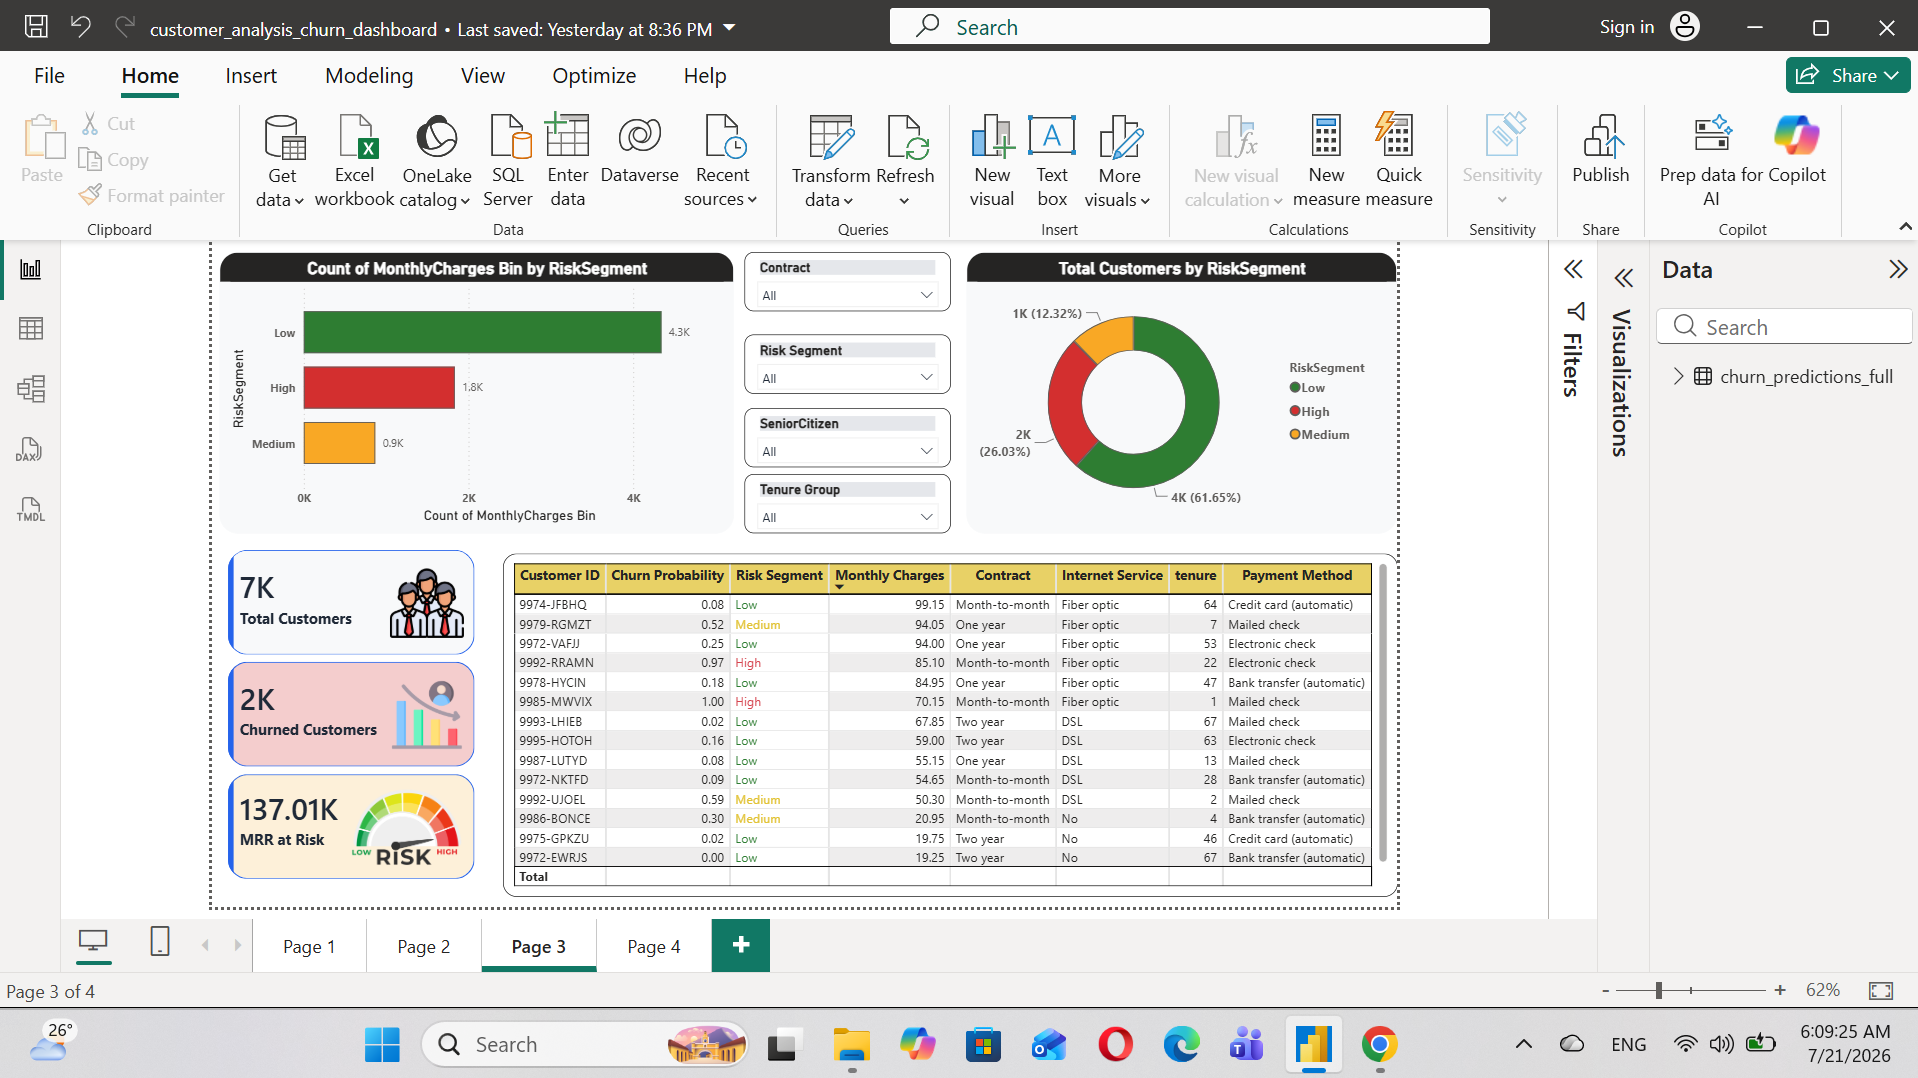

Layout of this report page (visuals, bound fields, positions):
{"tool":"powerbi","page":{"name":"Page 3","canvas":[1280,720],"ordinal":2},"visuals":[{"type":"tableEx","fields":{"Values":["churn_predictions_full.customerID","churn_predictions_full.churn_probability","churn_predictions_full.RiskSegment","churn_predictions_full.MonthlyCharges","churn_predictions_full.Contract","churn_predictions_full.InternetService","churn_predictions_full.tenure","churn_predictions_full.PaymentMethod"]},"box":[313.7,338.3,965.7,370.4],"z":0},{"type":"cardVisual","fields":{"Data":["churn_predictions_full.Total Customers","churn_predictions_full.Churned Customers","churn_predictions_full.MRR at Risk"]},"box":[0,317.5,300.5,391.2],"z":1000},{"type":"donutChart","fields":{"Category":["churn_predictions_full.RiskSegment"],"Y":["churn_predictions_full.Total Customers"]},"box":[814.5,13.2,464.9,304.3],"z":2000},{"type":"barChart","fields":{"Y":["CountNonNull(churn_predictions_full.MonthlyCharges Bin)"],"Category":["churn_predictions_full.RiskSegment"]},"box":[7.6,13.2,555.6,304.3],"z":3000},{"type":"slicer","fields":{"Values":["churn_predictions_full.Contract"]},"box":[574.5,13.2,223,64.3],"z":4000},{"type":"slicer","fields":{"Values":["churn_predictions_full.RiskSegment"]},"box":[574.5,102,223,64.3],"z":5000},{"type":"slicer","fields":{"Values":["churn_predictions_full.SeniorCitizen"]},"box":[574.5,181.4,223,64.3],"z":6000},{"type":"slicer","fields":{"Values":["churn_predictions_full.Tenure Group"]},"box":[574.5,253.2,223,64.3],"z":7000}]}

Visuals, with their boxes on the page's 1280x720 design canvas (x1, y1, x2, y2). These are canvas units, not pixel positions in the 1918x1078 screenshot, which may show the page scaled, cropped or inside an application window:
tableEx - churn_predictions_full.customerID x churn_predictions_full.churn_probability: bbox(314, 338, 1279, 709)
cardVisual - churn_predictions_full.Total Customers x churn_predictions_full.Churned Customers: bbox(0, 318, 300, 709)
donutChart - churn_predictions_full.RiskSegment x churn_predictions_full.Total Customers: bbox(814, 13, 1279, 318)
barChart - CountNonNull(churn_predictions_full.MonthlyCharges Bin) x churn_predictions_full.RiskSegment: bbox(8, 13, 563, 318)
slicer - churn_predictions_full.Contract: bbox(574, 13, 798, 78)
slicer - churn_predictions_full.RiskSegment: bbox(574, 102, 798, 166)
slicer - churn_predictions_full.SeniorCitizen: bbox(574, 181, 798, 246)
slicer - churn_predictions_full.Tenure Group: bbox(574, 253, 798, 318)
